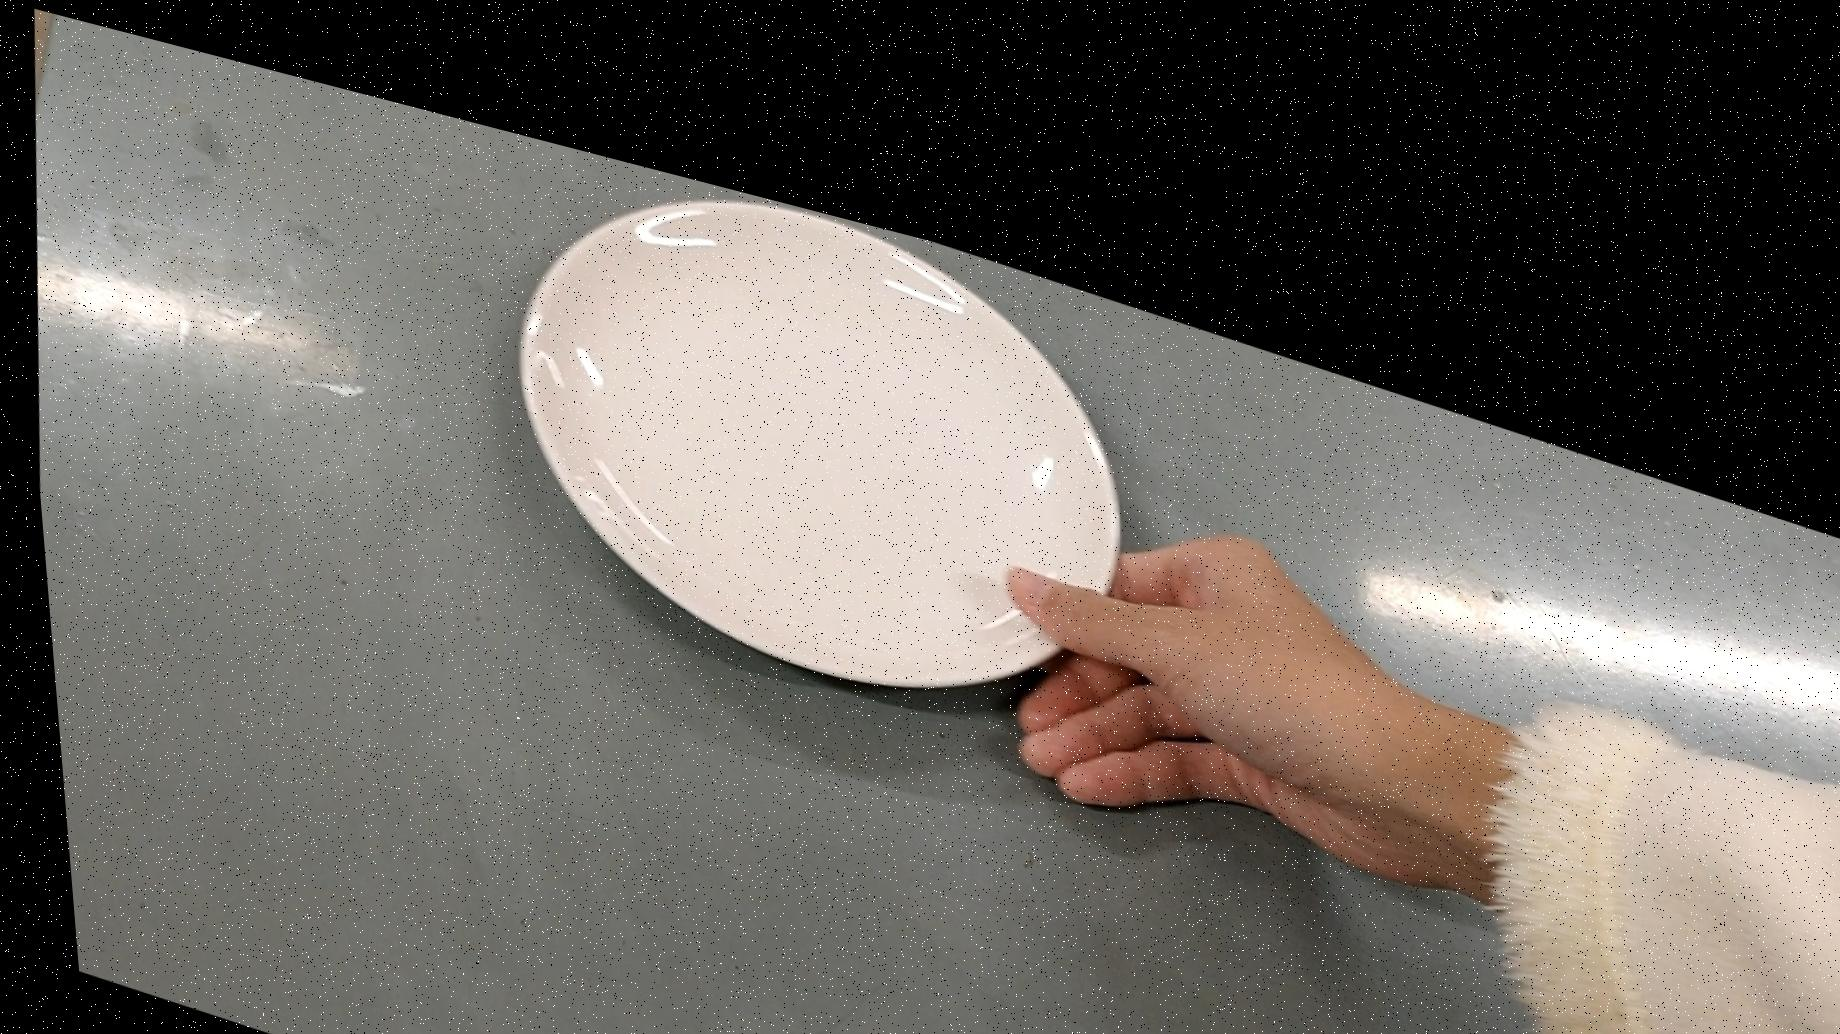plate: (483, 100, 1147, 722)
